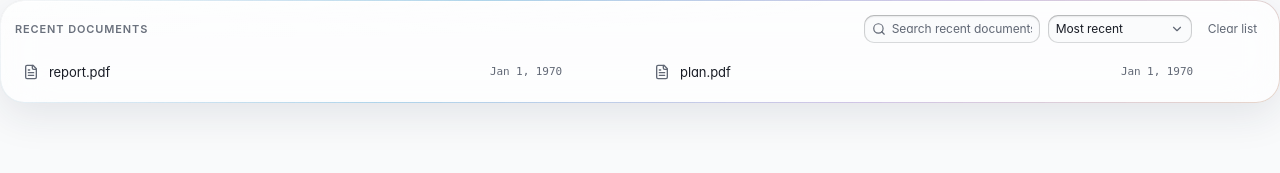
RecentDocuments › says nothing matches instead of showing the empty state
Type "budget" into the field labelled "Search recent documents".
click(962, 29); type("budget")  # box [892,21,1032,37]
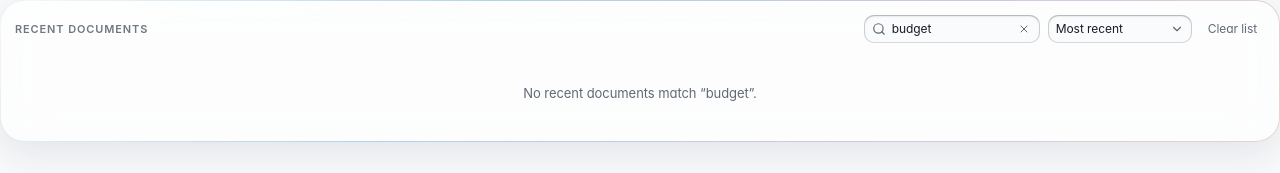
Expected: the message reads "No recent documents match “budget”.", [523,85,757,101]
